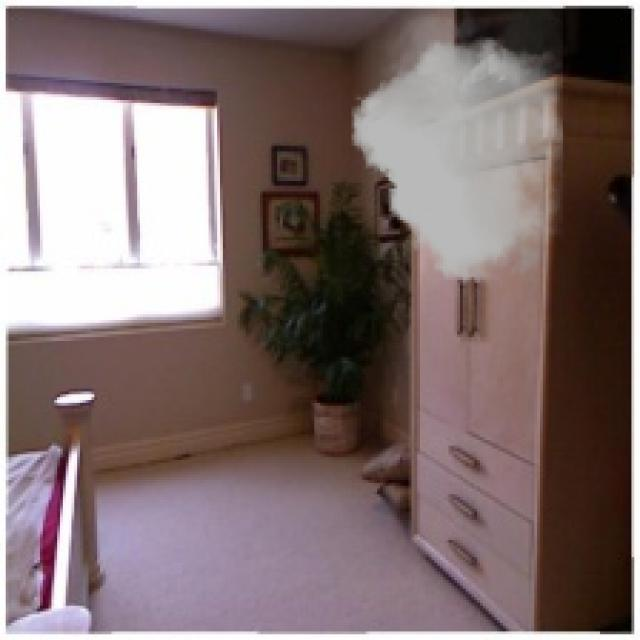Smoke: (351, 6, 563, 286)
